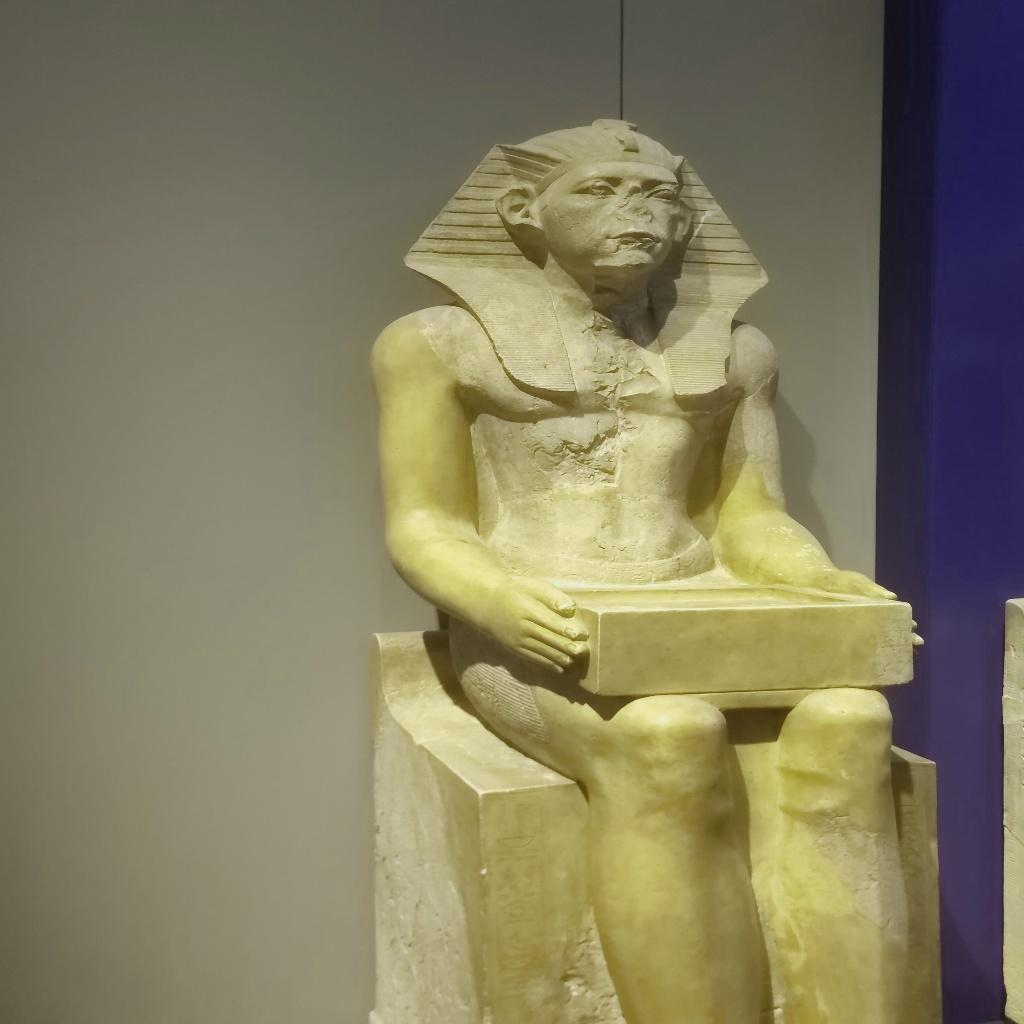Amenhotep III with Plate: (372, 108, 929, 1019)
